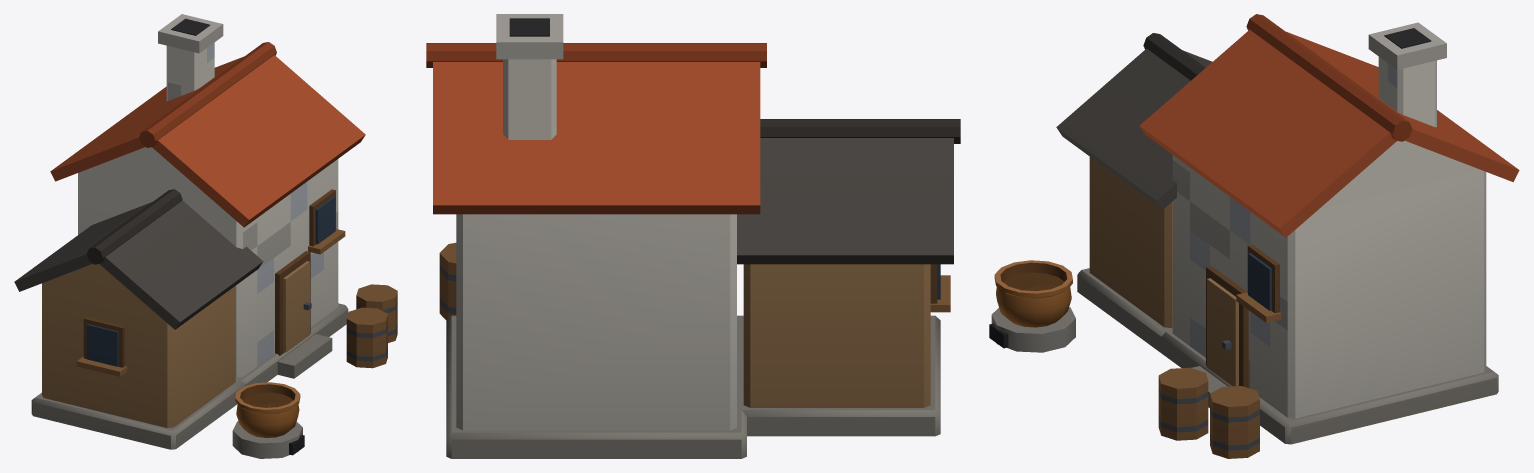
File: building_26.glb
3 views of the same model, side by side, from view 1: azimuth 30°, elevation 25°; view 2: azimuth 150°, elevation 25°; view 3: azimuth 270°, elevation 25° (orthographic). The views are drawn at different scales.
Visible parts, largest first — view 1: building_26; view 2: building_26; view 3: building_26.
Boxes of the visible parts, box(x1,y1,x2,y2) form: building_26: box(14, 14, 397, 458); building_26: box(426, 14, 960, 458); building_26: box(989, 14, 1519, 458).
Size of the model in its own units: 0.9019 by 0.66 by 0.9242.
